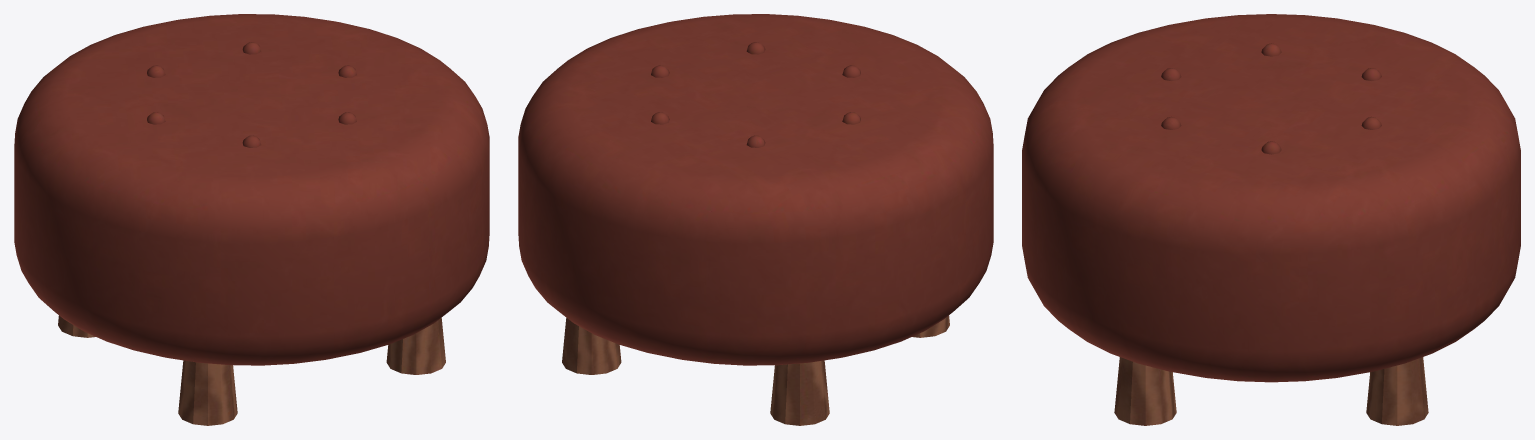
Rendered from footstool.glb.
3 views of the same model, side by side, from view 1: azimuth 30°, elevation 25°; view 2: azimuth 150°, elevation 25°; view 3: azimuth 270°, elevation 25° (orthographic). The views are drawn at different scales.
Visible parts, largest first — view 1: footstool; view 2: footstool; view 3: footstool.
Boxes of the visible parts, box(x1,y1,x2,y2) form: footstool: box(14, 14, 489, 425); footstool: box(518, 14, 993, 425); footstool: box(1022, 14, 1520, 425).
Bounding box in the file's own units: 5.6 × 3.3 × 5.6.
1 material, 1 textured.
